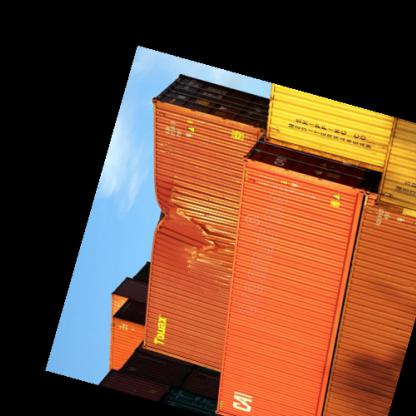Damage: (138, 195, 226, 277)
